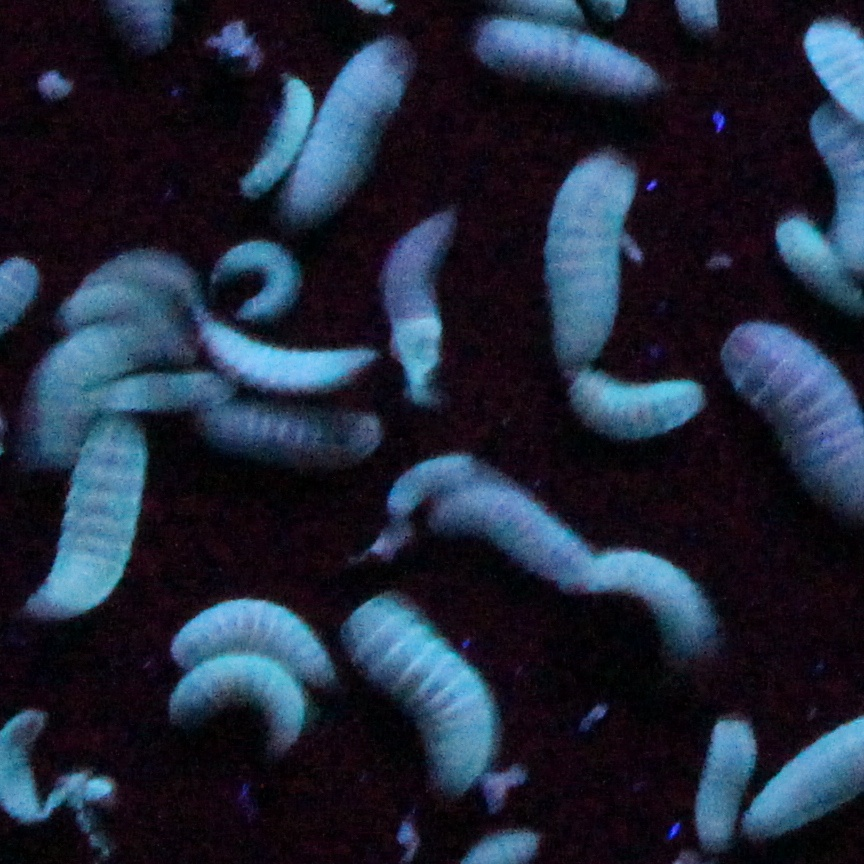larve: (340, 593, 498, 800), (22, 415, 149, 622), (289, 39, 416, 213), (545, 147, 637, 368), (368, 207, 461, 410), (428, 483, 586, 587), (588, 547, 721, 659), (479, 20, 660, 100), (169, 651, 309, 753), (169, 597, 329, 684), (192, 319, 374, 390), (202, 404, 380, 471), (372, 456, 474, 554), (570, 367, 703, 439), (243, 78, 314, 208), (86, 247, 203, 314), (694, 716, 752, 848), (77, 367, 228, 412), (216, 243, 301, 316)
